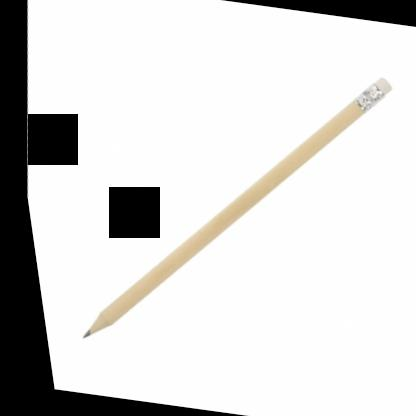pencil: (69, 70, 399, 344)
